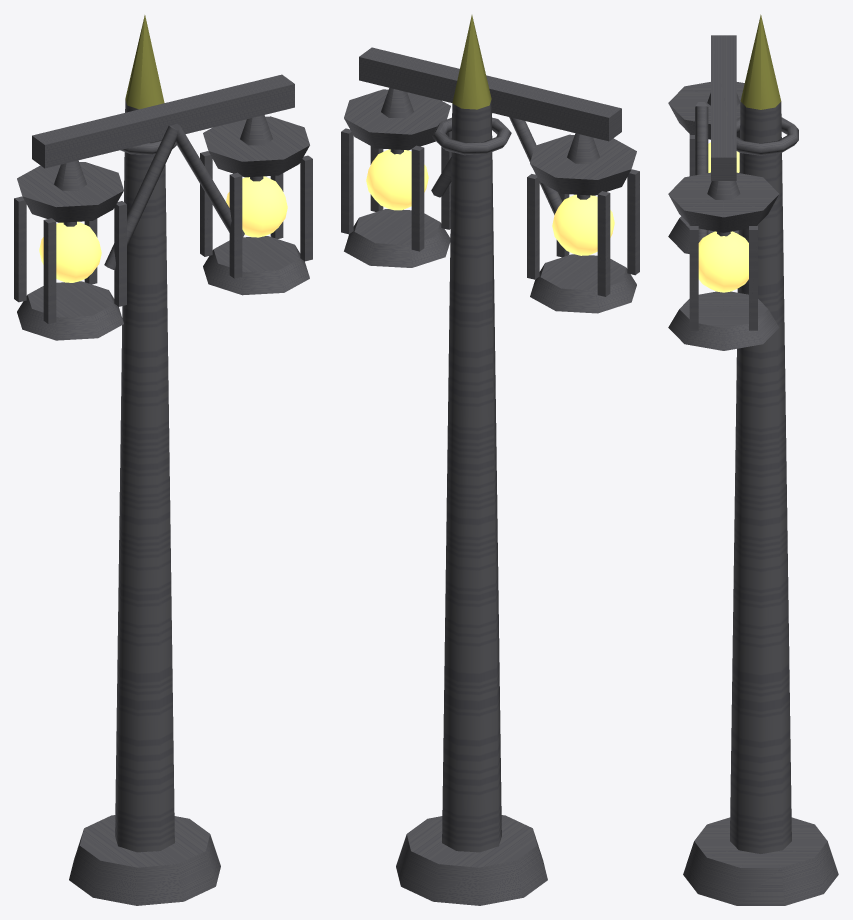
File: village_approach_lamp.glb
The picture shows the model from 3 angles, left to right: view 1: azimuth 30°, elevation 25°; view 2: azimuth 150°, elevation 25°; view 3: azimuth 270°, elevation 25°; orthographic projection.
Parts seen in each view (by area): view 1: al3_0, al3_2, al3_1; view 2: al3_0, al3_2, al3_1; view 3: al3_0, al3_2, al3_1.
Part boxes in pixels (x1=…): al3_0: x1=14, y1=74, x2=312, y2=905; al3_2: x1=39, y1=176, x2=287, y2=282; al3_1: x1=125, y1=15, x2=164, y2=109; al3_0: x1=341, y1=47, x2=639, y2=905; al3_2: x1=366, y1=149, x2=614, y2=255; al3_1: x1=452, y1=15, x2=491, y2=109; al3_0: x1=668, y1=35, x2=838, y2=905; al3_2: x1=698, y1=142, x2=748, y2=292; al3_1: x1=740, y1=14, x2=781, y2=109.
Bounding box in the file's own units: 0.88 × 2.56 × 0.46.
2 materials, 1 textured.
